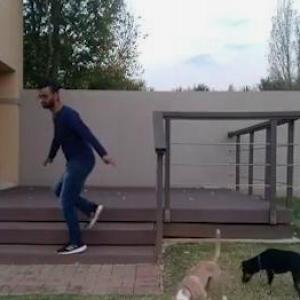land: (29, 70, 163, 264)
